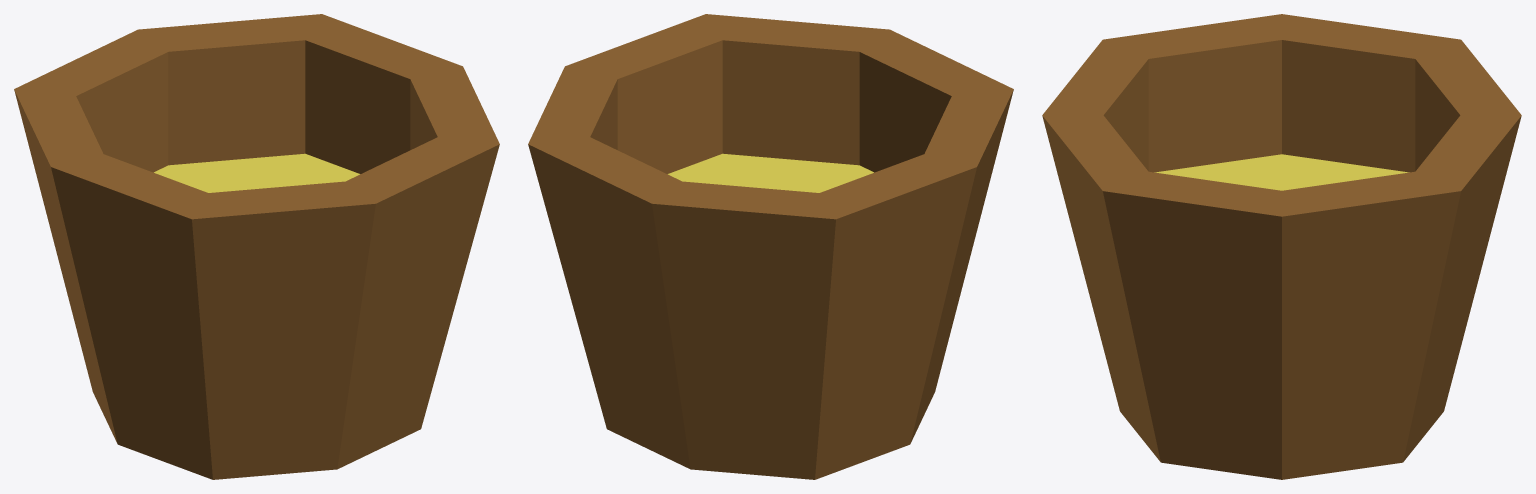
Rendered from pee_bucket.fbx.
The picture shows the model from 3 angles, left to right: view 1: azimuth 30°, elevation 25°; view 2: azimuth 150°, elevation 25°; view 3: azimuth 270°, elevation 25°; orthographic projection.
Visible parts, largest first — view 1: Cube; view 2: Cube; view 3: Cube.
Boxes of the visible parts, x1=… form: Cube: x1=14, y1=14, x2=499, y2=479; Cube: x1=528, y1=14, x2=1013, y2=479; Cube: x1=1042, y1=14, x2=1521, y2=479.
Bounding box in the file's own units: 268 × 182 × 268.
